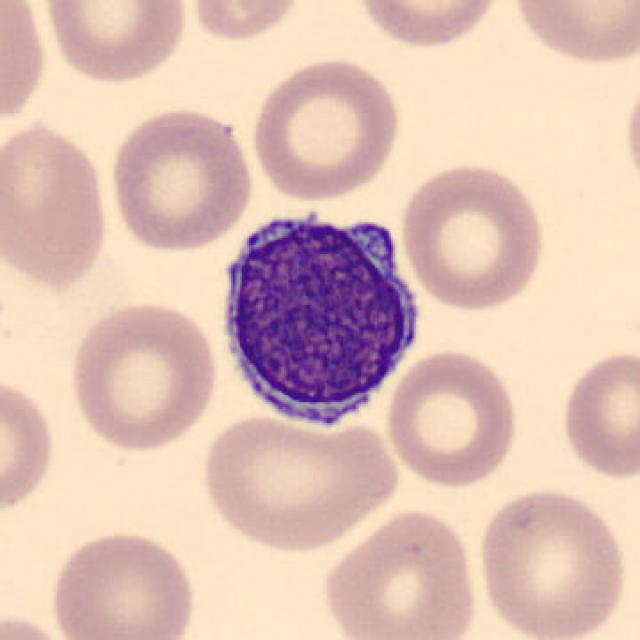Lymphocyte: (208, 197, 428, 439)
RBC: (198, 411, 406, 554), (473, 483, 631, 640), (64, 298, 220, 455), (396, 159, 550, 314), (247, 53, 405, 204), (105, 104, 256, 256), (316, 504, 482, 640), (382, 346, 523, 490), (0, 116, 114, 293), (45, 525, 199, 640), (39, 0, 192, 86), (556, 344, 638, 483), (503, 0, 638, 69), (0, 370, 59, 524), (345, 0, 507, 51), (0, 0, 50, 136), (185, 0, 307, 44), (620, 64, 640, 204), (0, 608, 82, 640)
